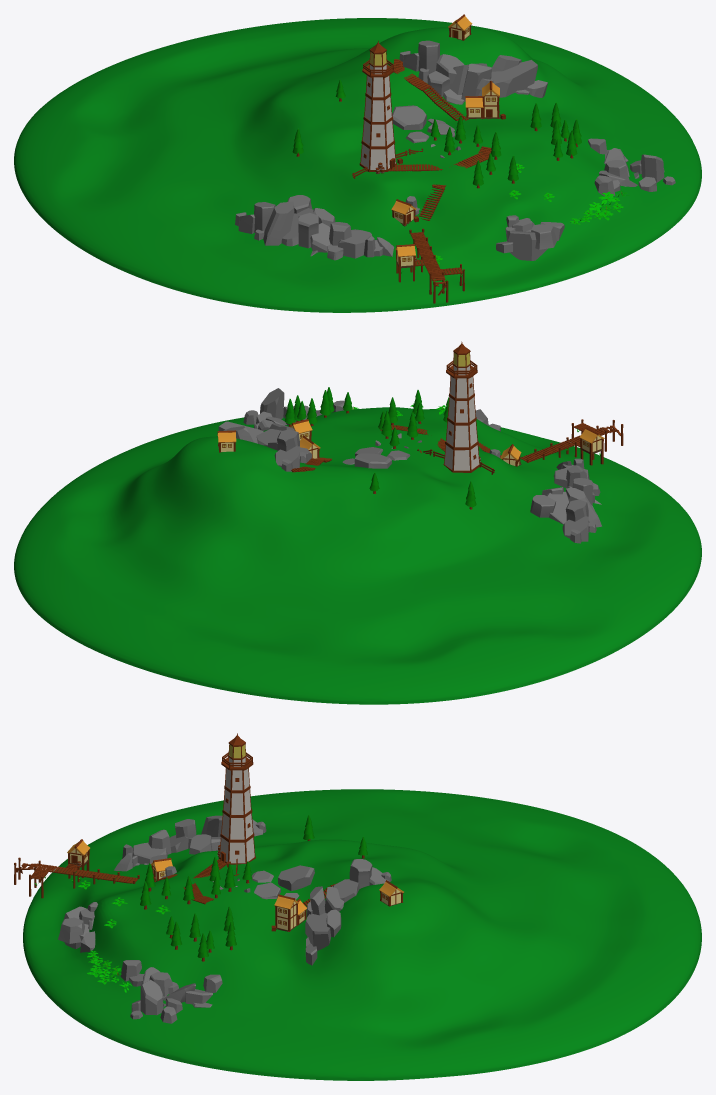
The model's file is island_test.fbx.
The picture shows the model from 3 angles, top to bottom: view 1: azimuth 30°, elevation 25°; view 2: azimuth 150°, elevation 25°; view 3: azimuth 270°, elevation 25°; orthographic projection.
Visible parts, largest first — view 1: pCube3, lighthouse4, rock_medium_50, rock_large_13, rock_medium_43, rock_medium_49, rock_medium_52, rock_large_14, rock_large_16, rock_medium_48, rock_large_15, rock_large_12 (+6 smaller); view 2: pCube3, lighthouse4, rock_large_13, rock_large_15, rock_large_16, rock_medium_52, rock_medium_50, rock_medium_48, house_stilts6, rock_medium_49; view 3: pCube3, lighthouse4, rock_medium_50, rock_medium_52, rock_medium_48, rock_medium_43, rock_medium_46, rock_large_13, rock_medium_49, rock_large_16, house_2lvl2, rock_large_14 (+1 smaller).
Boxes of the visible parts, x1,y1,x2,y2 form: pCube3: (14, 18, 701, 312); lighthouse4: (359, 41, 396, 172); rock_medium_50: (449, 55, 547, 101); rock_large_13: (263, 195, 335, 246); rock_medium_43: (496, 222, 564, 260); rock_medium_49: (327, 222, 372, 260); rock_medium_52: (392, 105, 454, 143); rock_large_14: (298, 213, 330, 256); rock_large_16: (399, 40, 439, 83); rock_medium_48: (629, 154, 675, 191); rock_large_15: (235, 202, 275, 240); rock_large_12: (427, 71, 464, 104); pCube3: (14, 407, 701, 704); lighthouse4: (443, 341, 479, 472); rock_large_13: (530, 487, 601, 527); rock_large_15: (562, 499, 596, 543); rock_large_16: (274, 429, 307, 471); rock_medium_52: (342, 447, 410, 468); rock_medium_50: (218, 421, 294, 446); rock_medium_48: (243, 388, 287, 424); house_stilts6: (579, 427, 604, 465); rock_medium_49: (554, 465, 600, 495); pCube3: (23, 789, 701, 1080); lighthouse4: (218, 733, 255, 864); rock_medium_50: (305, 886, 344, 965); rock_medium_52: (251, 865, 314, 899); rock_medium_48: (130, 979, 182, 1023); rock_medium_43: (58, 906, 95, 952); rock_medium_46: (163, 974, 222, 1007); rock_large_13: (188, 815, 222, 854); rock_medium_49: (133, 829, 171, 864); rock_large_16: (348, 859, 391, 888); house_2lvl2: (274, 894, 298, 931); rock_large_14: (169, 819, 196, 852).
Size of the model in its own units: 31494 by 10193 by 31905.
Materials: 1 (1 with a texture image).
